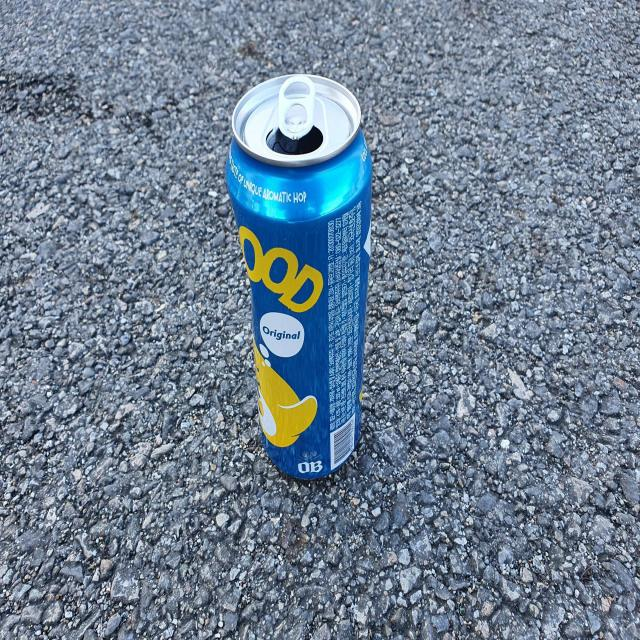can: (226, 73, 372, 479)
